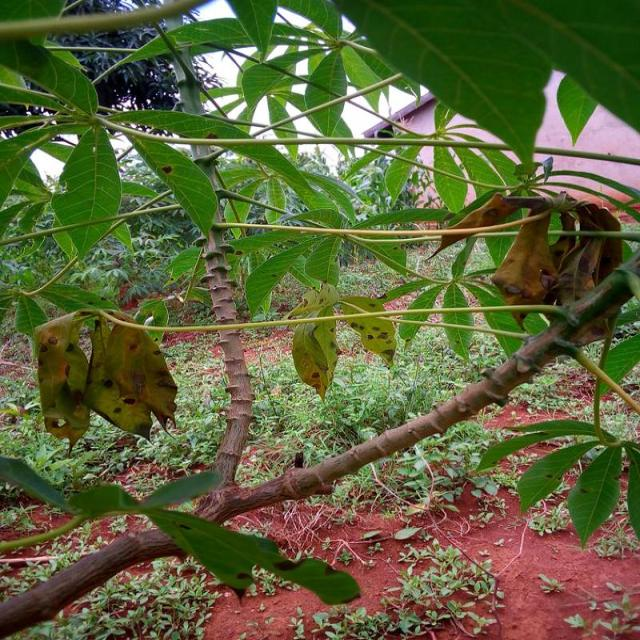cassava leaf: (85, 314, 179, 442), (50, 121, 133, 262), (342, 294, 398, 368)
